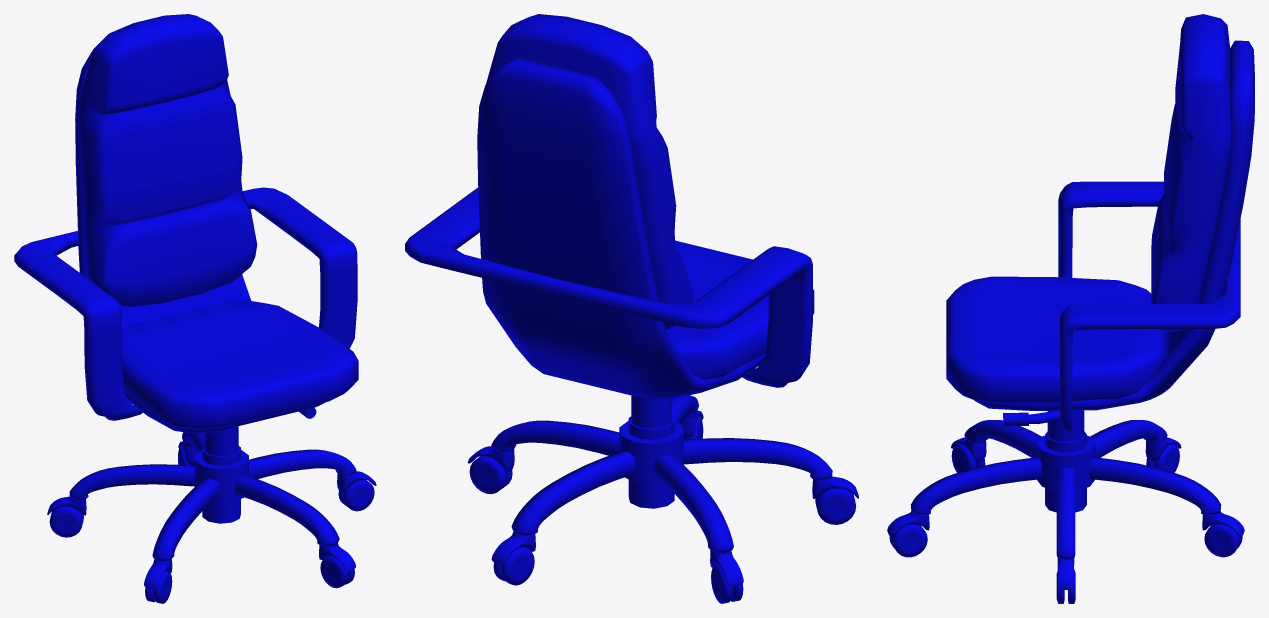
File: SM_OfficeChair.fbx
3 renders of one model, left to right at view 1: azimuth 30°, elevation 25°; view 2: azimuth 150°, elevation 25°; view 3: azimuth 270°, elevation 25°, orthographic. The views are drawn at different scales.
Parts seen in each view (by area): view 1: polySurface10; view 2: polySurface10; view 3: polySurface10.
Part boxes in pixels (<box>): polySurface10: <box>14,14,376,603</box>; polySurface10: <box>405,14,858,603</box>; polySurface10: <box>887,14,1254,603</box>.
Bounding box in the file's own units: 88.17 × 139 × 92.13.
